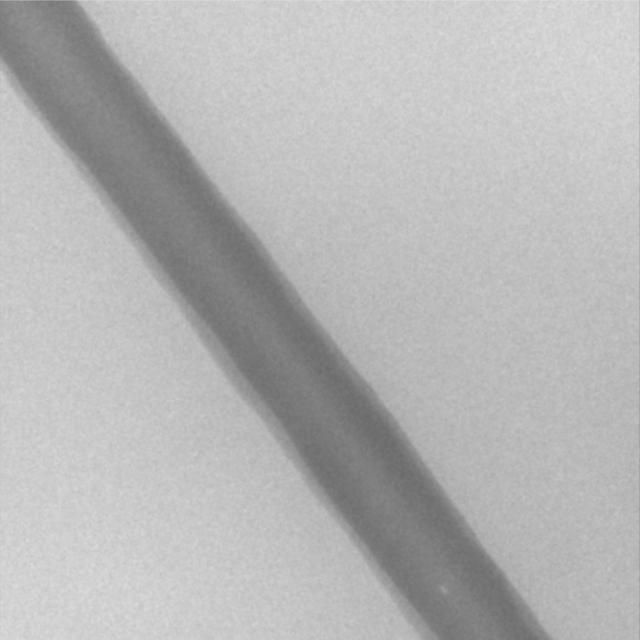air hole: (437, 584, 447, 596)
